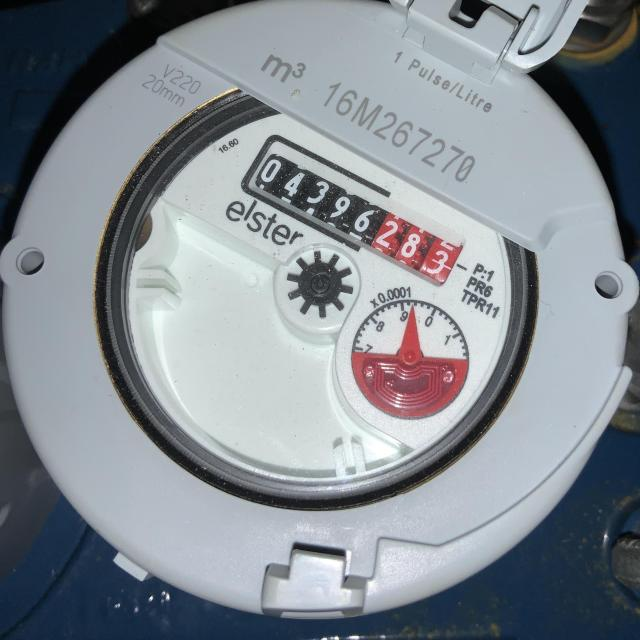gaz_meter: (120, 103, 516, 493)
indication: (242, 143, 462, 286)
